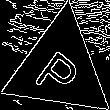P_NE: (31, 37, 88, 99)
